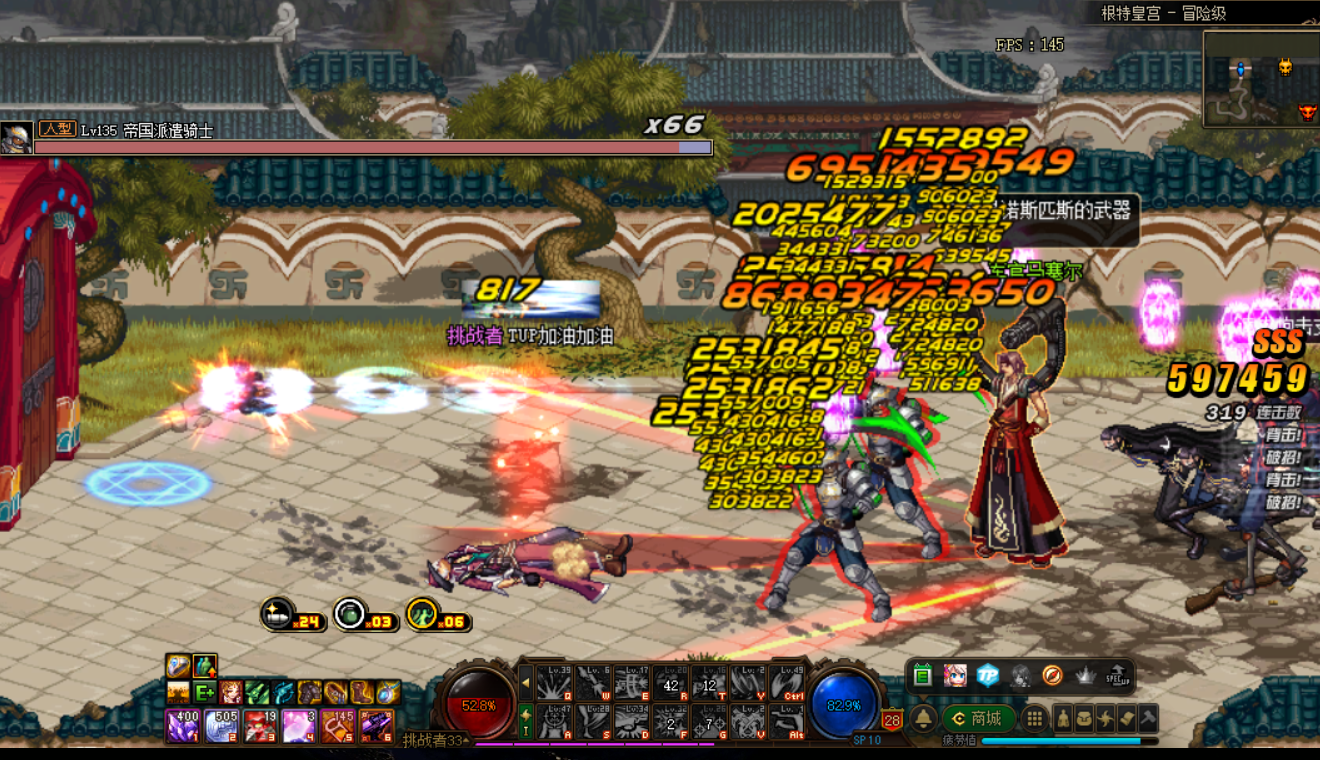monster: (923, 288, 1077, 568), (757, 444, 896, 627), (834, 375, 951, 563), (1163, 453, 1311, 596), (1091, 413, 1229, 556), (1232, 359, 1320, 518)
warrior: (422, 515, 641, 604)
